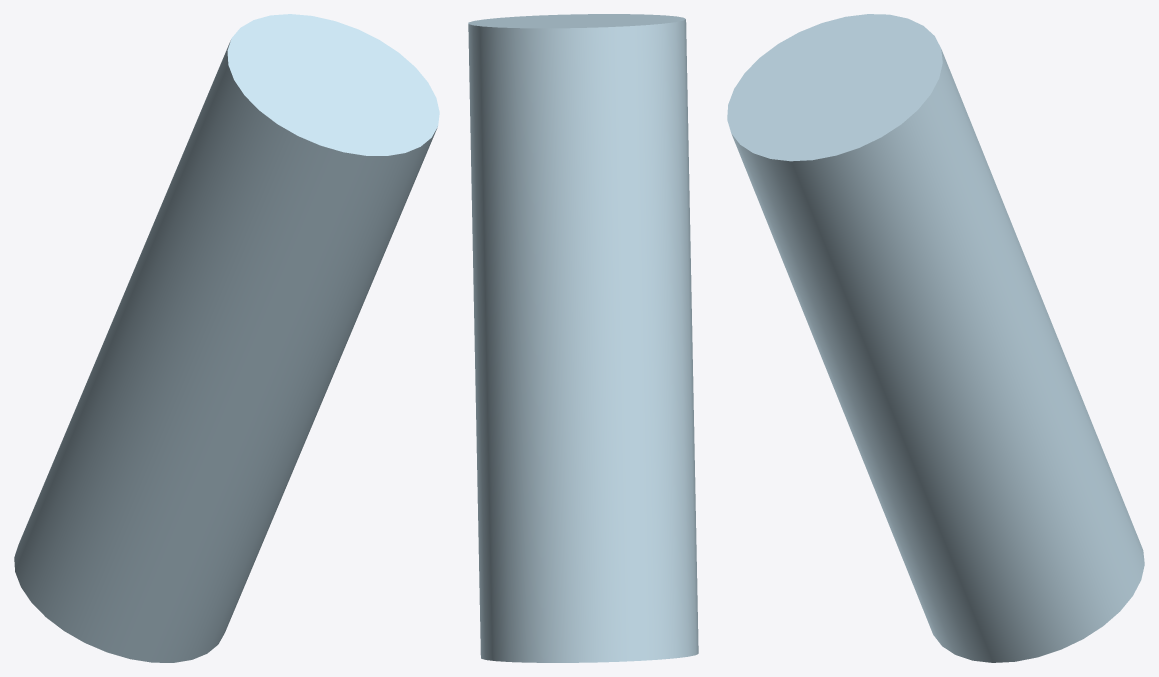
The model's file is PLACEHOLDER_Red_Laser_1.gltf.
3 views of the same model, side by side, from view 1: azimuth 30°, elevation 25°; view 2: azimuth 150°, elevation 25°; view 3: azimuth 270°, elevation 25° (orthographic). The views are drawn at different scales.
Visible parts, largest first — view 1: mesh32791, mesh32792; view 2: mesh32791, mesh32792; view 3: mesh32791, mesh32792.
Part boxes in pixels (bbox=[...]): mesh32791: bbox=[14, 40, 437, 662]; mesh32792: bbox=[227, 14, 439, 155]; mesh32791: bbox=[468, 19, 698, 662]; mesh32792: bbox=[468, 14, 685, 28]; mesh32791: bbox=[731, 49, 1144, 662]; mesh32792: bbox=[727, 14, 942, 161].
Size of the model in its own units: 0.0161 by 0.0317 by 0.019.
